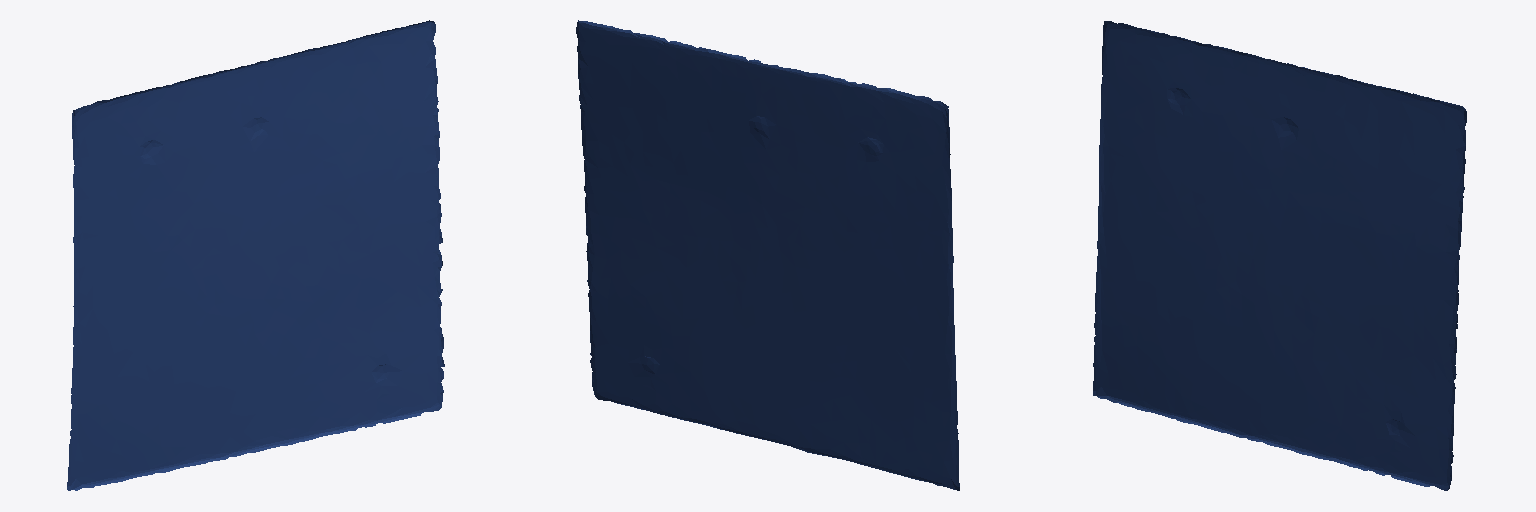
robot.urdf — design:
<?xml version="1.0"?>
<robot name="design">
  <material name="obj_color">
      <color rgba="0.2 0.3 0.5 1.0"/>
  </material>
  <link name="base">
    <visual>
      <origin xyz="0.0 0.0 0.0"/>
      <geometry>
        <mesh filename="scan.obj" scale="1 1 1"/>
      </geometry>
      <material name="obj_color"/>
    </visual>
    <collision>
      <origin xyz="0.0 0.0 0.0"/>
      <geometry>
        <mesh filename="scan.obj" scale="1 1 1"/>
      </geometry>
    </collision>
  </link>
</robot>

--- Render facts (derived) ---
The picture shows the robot from 3 angles, left to right: view 1: azimuth 30°, elevation 25°; view 2: azimuth 150°, elevation 25°; view 3: azimuth 330°, elevation 25°; orthographic projection.
Model design with 1 links and 0 joints (none), rooted at base, posed all joints at 0.
Links seen in each view (by area): view 1: base; view 2: base; view 3: base.
Link boxes in pixels (x1,y1,x2,y2): base: [67, 20, 444, 490]; base: [576, 20, 959, 490]; base: [1093, 21, 1466, 490].
Size in the robot's own frame: 0.138 by 0.0085 by 0.1358 metres.
1 mesh visuals loaded from 1 distinct referenced files (1 OBJ).
